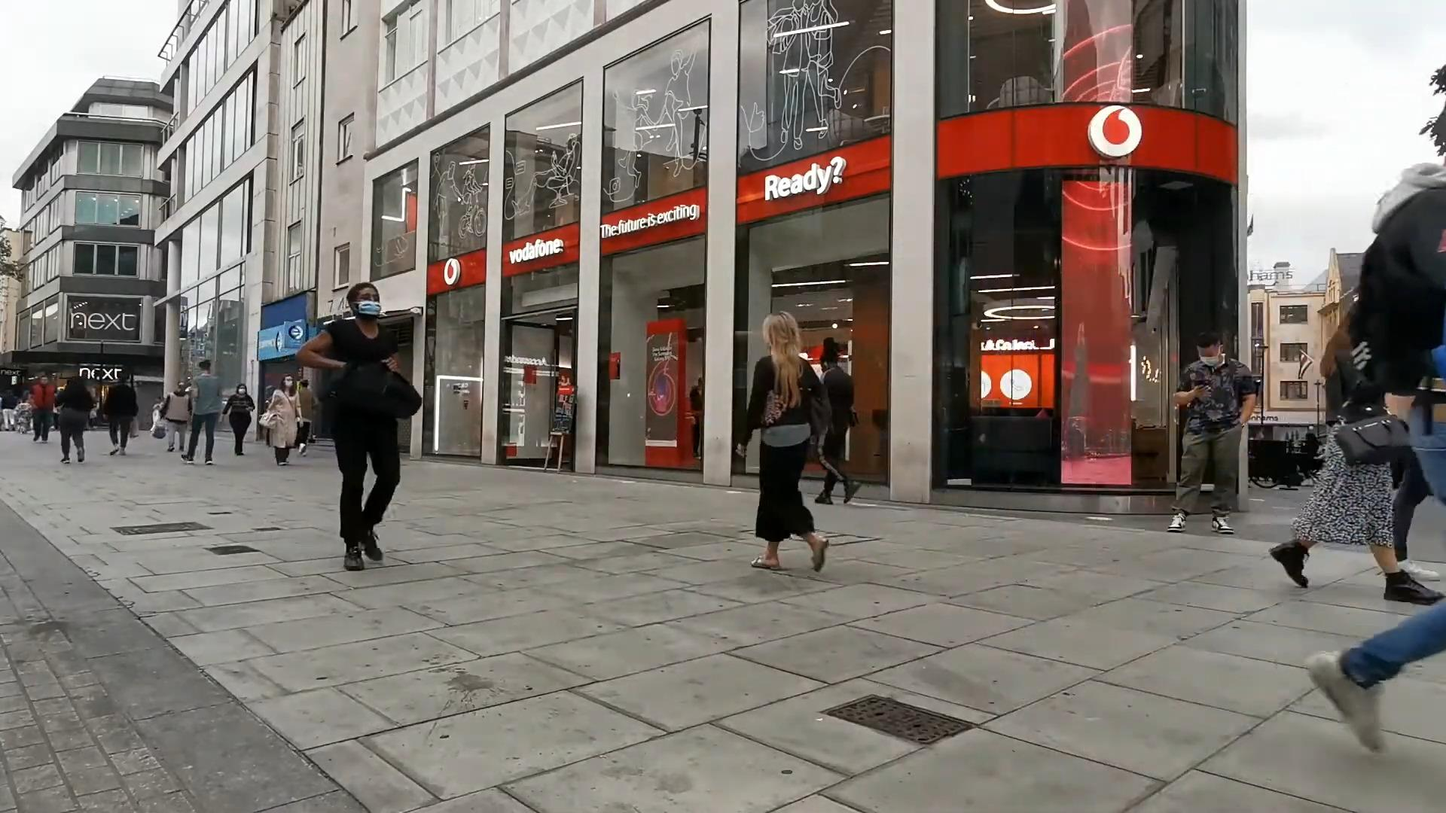no-helmet: (761, 310, 801, 353), (346, 281, 381, 319), (1196, 330, 1225, 367), (281, 373, 295, 389), (236, 383, 248, 396)
